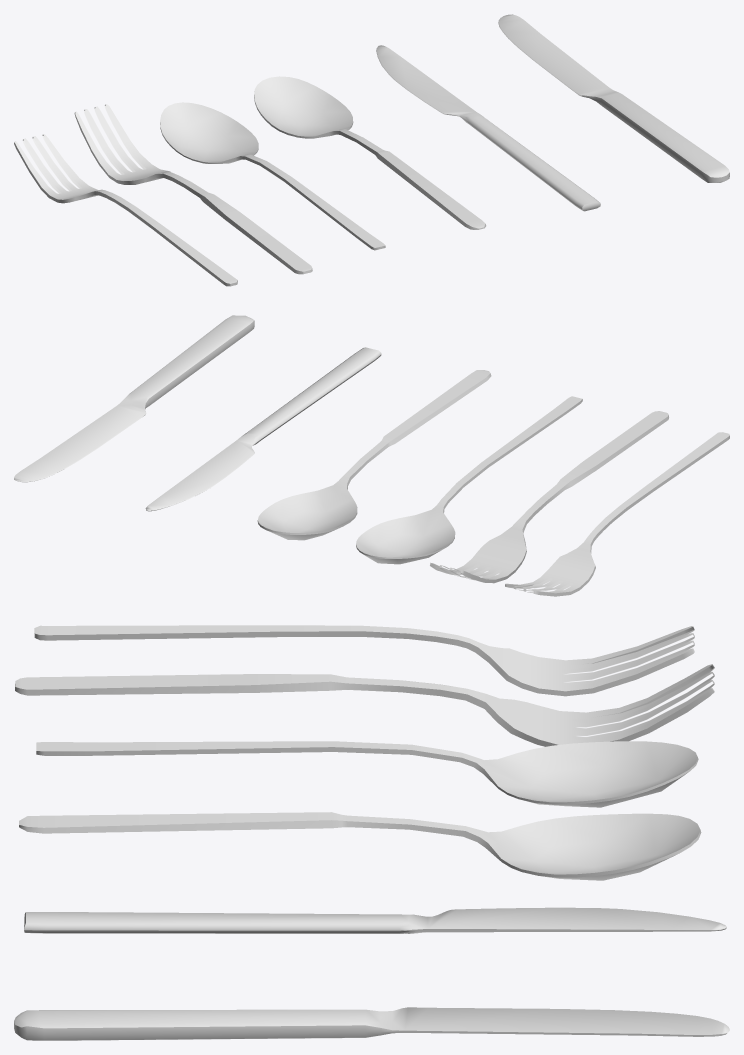
The model's file is cutlery.glb.
3 views of the same model, one above another, from view 1: azimuth 30°, elevation 25°; view 2: azimuth 150°, elevation 25°; view 3: azimuth 270°, elevation 25° (orthographic). The views are drawn at different scales.
Parts seen in each view (by area): view 1: Spoon2_low_2, Knife2_low_4, Spoon1_low_1, Fork2_low_0, Knife1_low_5, Fork1_low_3; view 2: Knife2_low_4, Spoon2_low_2, Spoon1_low_1, Fork2_low_0, Knife1_low_5, Fork1_low_3; view 3: Knife2_low_4, Spoon2_low_2, Spoon1_low_1, Fork2_low_0, Knife1_low_5, Fork1_low_3.
Boxes of the visible parts, bbox=[...] form: Spoon2_low_2: bbox=[254, 76, 486, 229]; Knife2_low_4: bbox=[498, 14, 729, 182]; Spoon1_low_1: bbox=[160, 102, 385, 250]; Fork2_low_0: bbox=[74, 104, 312, 274]; Knife1_low_5: bbox=[376, 45, 600, 211]; Fork1_low_3: bbox=[14, 134, 237, 286]; Knife2_low_4: bbox=[14, 315, 254, 482]; Spoon2_low_2: bbox=[257, 370, 491, 540]; Spoon1_low_1: bbox=[356, 396, 582, 564]; Fork2_low_0: bbox=[430, 411, 668, 583]; Knife1_low_5: bbox=[145, 347, 381, 511]; Fork1_low_3: bbox=[505, 432, 729, 596]; Knife2_low_4: bbox=[14, 1007, 729, 1040]; Spoon2_low_2: bbox=[19, 812, 701, 880]; Spoon1_low_1: bbox=[36, 741, 698, 807]; Fork2_low_0: bbox=[15, 664, 714, 746]; Knife1_low_5: bbox=[24, 907, 726, 933]; Fork1_low_3: bbox=[34, 625, 694, 696].
Size of the model in its own units: 7.7 by 0.5363 by 5.74.
Materials: 6 (2 with a texture image).
